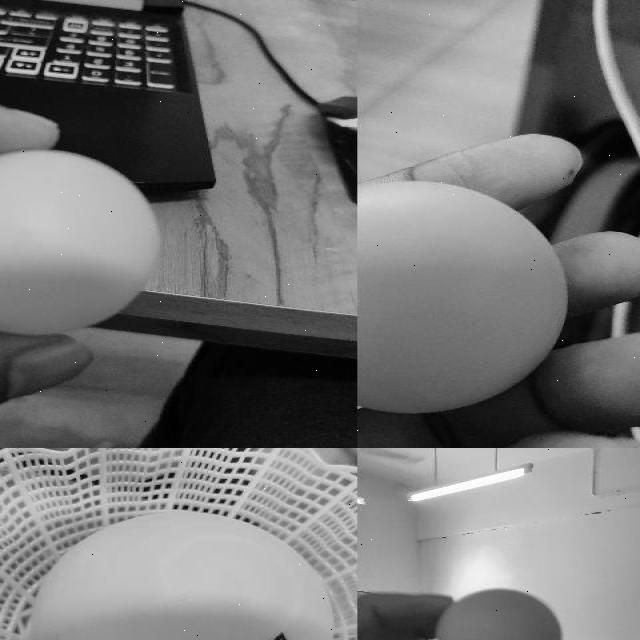ping-pong-ball: (357, 182, 567, 413), (34, 509, 334, 639), (0, 146, 160, 335), (436, 590, 563, 639)
